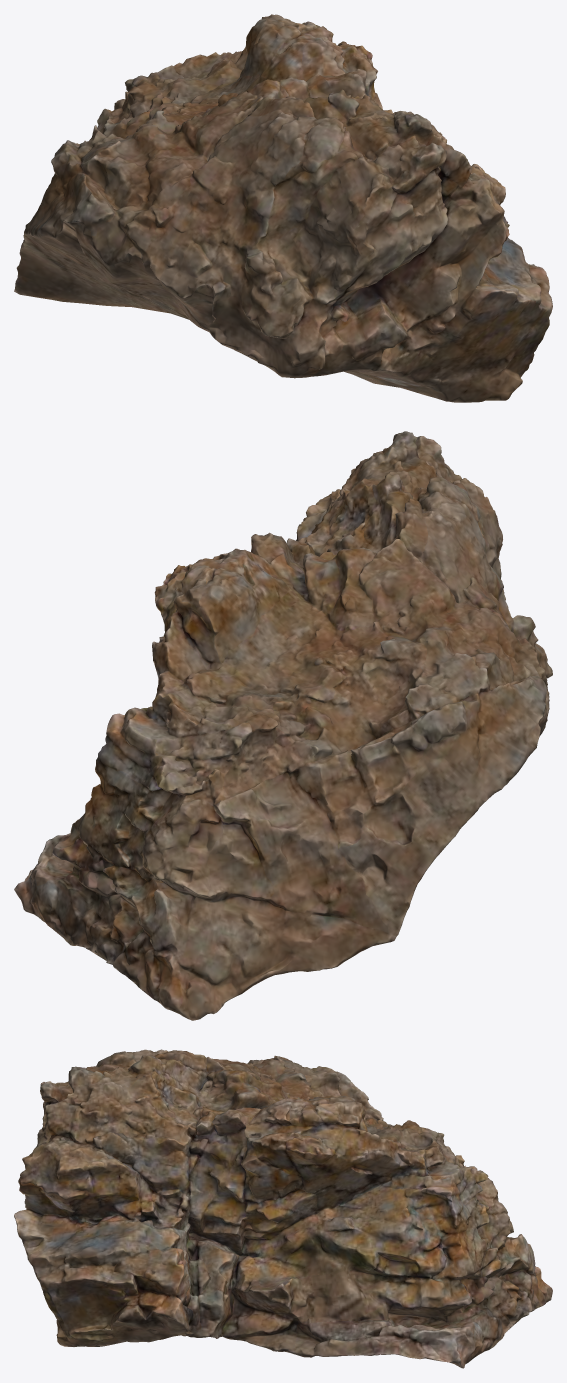
File: boulder_draco.glb
3 views of the same model, one above another, from view 1: azimuth 30°, elevation 25°; view 2: azimuth 150°, elevation 25°; view 3: azimuth 270°, elevation 25° (orthographic). The views are drawn at different scales.
Visible parts, largest first — view 1: boulder_01; view 2: boulder_01; view 3: boulder_01.
Boxes of the visible parts, box(x1,y1,x2,y2) form: boulder_01: box(14, 14, 552, 402); boulder_01: box(14, 431, 552, 1020); boulder_01: box(14, 1049, 552, 1368).
Bounding box in the file's own units: 1.27 × 1 × 1.83.
Materials: 1 (1 with a texture image).
